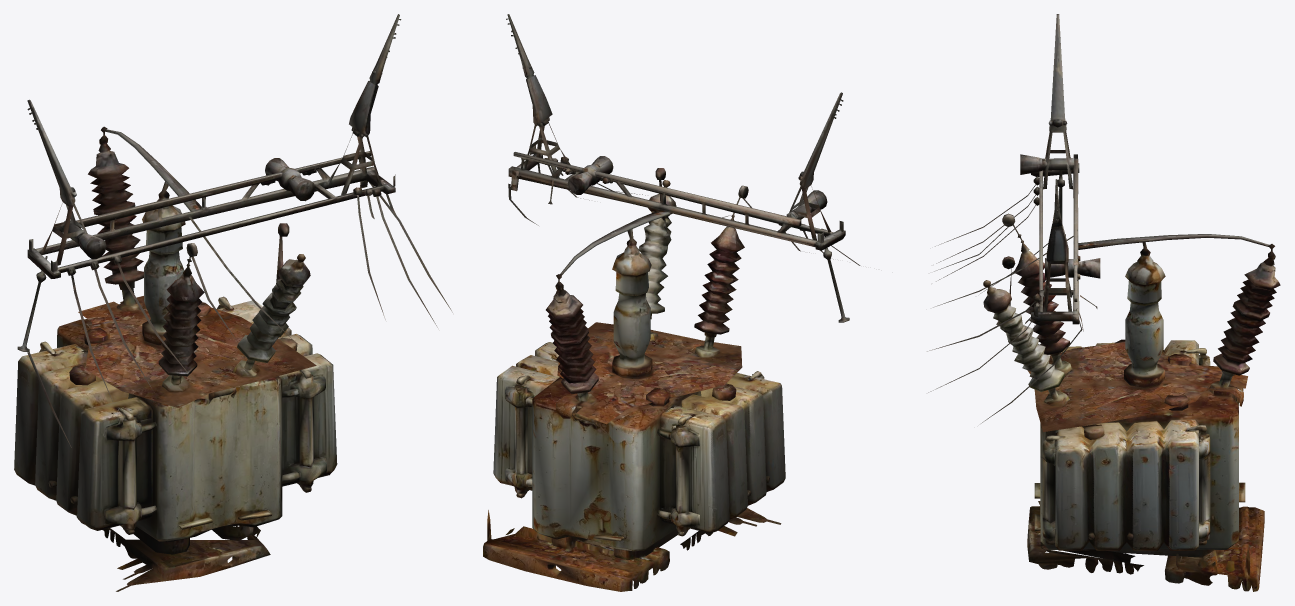
The model's file is site-substation.glb.
3 renders of one model, left to right at view 1: azimuth 30°, elevation 25°; view 2: azimuth 150°, elevation 25°; view 3: azimuth 270°, elevation 25°, orthographic. The views are drawn at different scales.
Visible parts, largest first — view 1: site-substation; view 2: site-substation; view 3: site-substation.
Boxes of the visible parts, box(x1,y1,x2,y2) form: site-substation: box(14, 14, 452, 591); site-substation: box(483, 14, 860, 591); site-substation: box(927, 14, 1280, 591).
Bounding box in the file's own units: 0.8022 × 0.9995 × 0.7075.
1 material, 1 textured.
